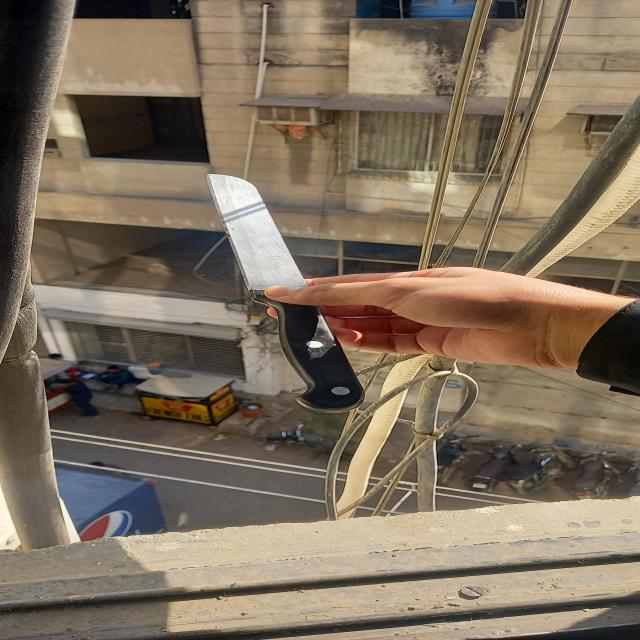Knife: (205, 174, 367, 412)
Person: (265, 268, 640, 400)
